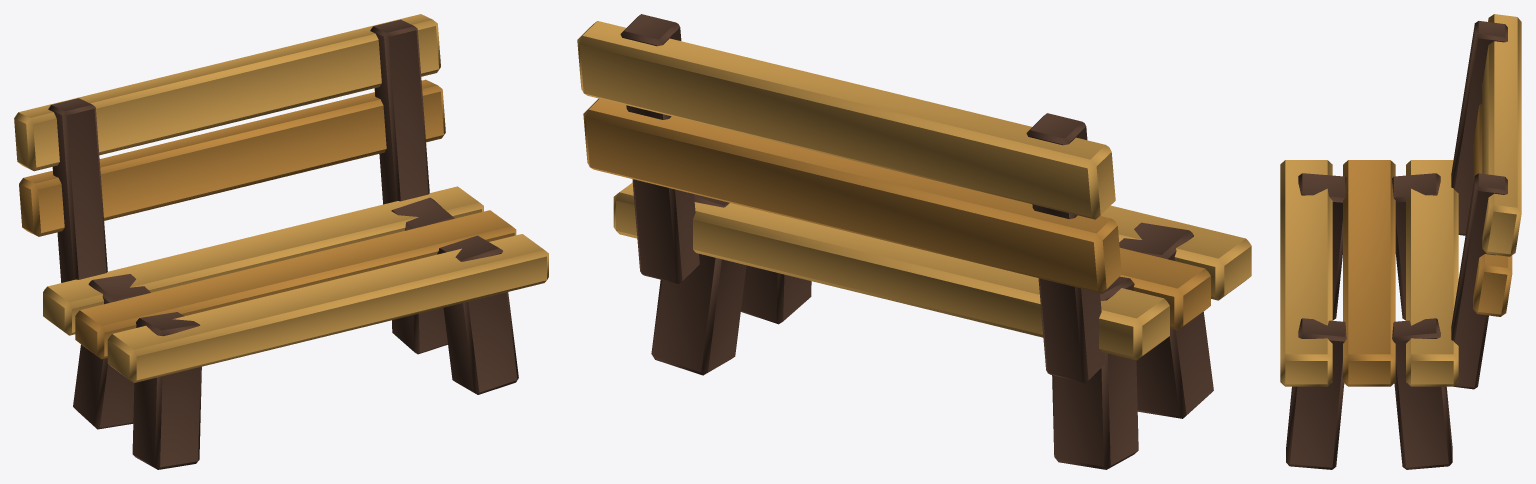
File: prop_bench.glb
3 views of the same model, side by side, from view 1: azimuth 30°, elevation 25°; view 2: azimuth 150°, elevation 25°; view 3: azimuth 270°, elevation 25° (orthographic). The views are drawn at different scales.
Parts seen in each view (by area): view 1: bench_seat_0, bench_back_1, bench_back_0, bench_seat_1, bench_seat_2, bench_back_support_1, bench_back_support_-1, bench_leg_-1_-1, bench_leg_1_-1, bench_leg_-1_1, bench_leg_1_1; view 2: bench_back_1, bench_back_0, bench_seat_2, bench_leg_1_1, bench_leg_-1_1, bench_leg_-1_-1, bench_back_support_1, bench_back_support_-1, bench_seat_0, bench_seat_1, bench_leg_1_-1; view 3: bench_seat_1, bench_seat_0, bench_seat_2, bench_back_1, bench_leg_1_1, bench_leg_1_-1, bench_back_support_1, bench_back_support_-1, bench_back_0, bench_leg_-1_-1, bench_leg_-1_1.
Boxes of the visible parts, x1=… form: bench_seat_0: x1=107, y1=234, x2=548, y2=382; bench_back_1: x1=14, y1=14, x2=440, y2=171; bench_back_0: x1=19, y1=79, x2=445, y2=236; bench_seat_1: x1=75, y1=210, x2=516, y2=359; bench_seat_2: x1=43, y1=186, x2=483, y2=335; bench_back_support_1: x1=370, y1=19, x2=429, y2=204; bench_back_support_-1: x1=48, y1=98, x2=107, y2=282; bench_leg_-1_-1: x1=132, y1=312, x2=201, y2=469; bench_leg_1_-1: x1=437, y1=235, x2=518, y2=394; bench_leg_-1_1: x1=73, y1=274, x2=150, y2=429; bench_leg_1_1: x1=391, y1=197, x2=454, y2=354; bench_back_1: x1=577, y1=21, x2=1115, y2=219; bench_back_0: x1=583, y1=98, x2=1121, y2=293; bench_seat_2: x1=613, y1=183, x2=1169, y2=360; bench_leg_1_1: x1=651, y1=194, x2=746, y2=375; bench_leg_-1_1: x1=1052, y1=276, x2=1138, y2=469; bench_leg_-1_-1: x1=1119, y1=222, x2=1213, y2=418; bench_back_support_1: x1=620, y1=14, x2=699, y2=283; bench_back_support_-1: x1=1026, y1=113, x2=1105, y2=382; bench_seat_0: x1=1100, y1=205, x2=1251, y2=300; bench_seat_1: x1=1119, y1=247, x2=1210, y2=330; bench_leg_1_-1: x1=741, y1=265, x2=811, y2=324; bench_seat_1: x1=1343, y1=160, x2=1395, y2=386; bench_seat_0: x1=1280, y1=160, x2=1332, y2=386; bench_seat_2: x1=1406, y1=160, x2=1458, y2=386; bench_back_1: x1=1482, y1=14, x2=1521, y2=256; bench_leg_1_1: x1=1392, y1=318, x2=1452, y2=469; bench_leg_1_-1: x1=1286, y1=318, x2=1346, y2=469; bench_back_support_1: x1=1451, y1=173, x2=1507, y2=389; bench_back_support_-1: x1=1451, y1=21, x2=1507, y2=235; bench_back_0: x1=1473, y1=103, x2=1512, y2=316; bench_leg_-1_-1: x1=1298, y1=173, x2=1346, y2=320; bench_leg_-1_1: x1=1392, y1=173, x2=1440, y2=320.
Size of the model in its own units: 1.12 by 0.7481 by 0.5757.
